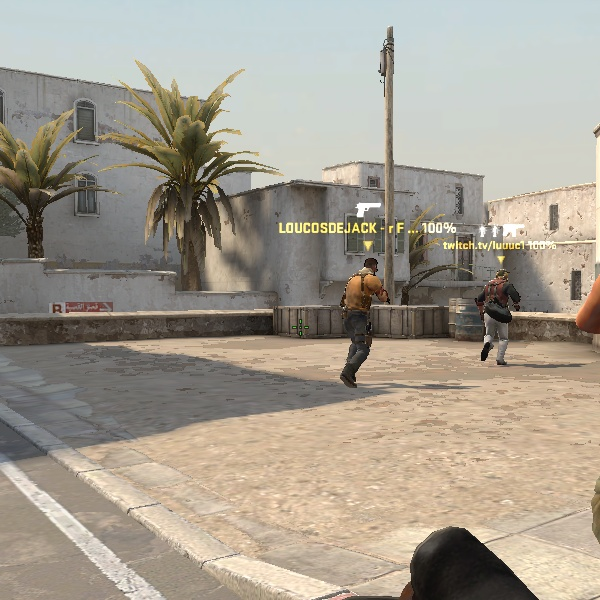t_body: (340, 247, 396, 393), (463, 263, 537, 372)
t_head: (357, 251, 384, 282), (489, 266, 520, 289)
